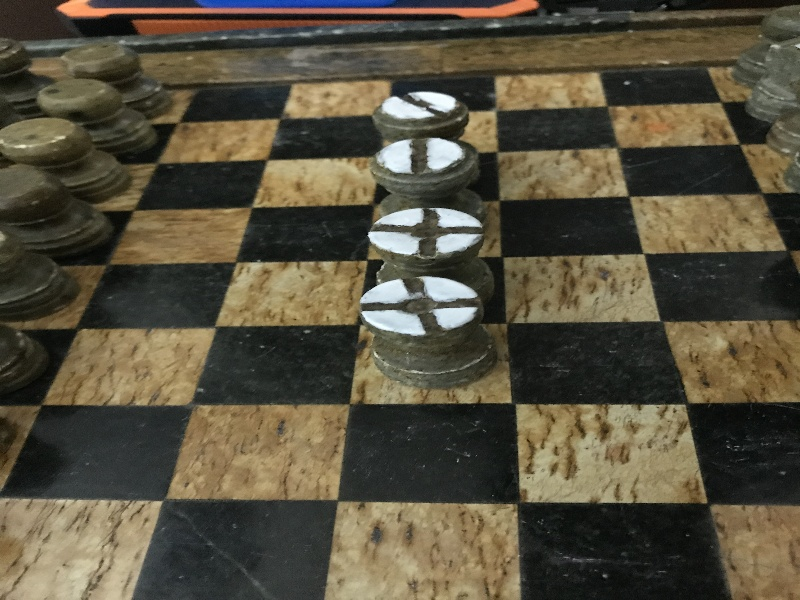WhiteBishop: (359, 276, 495, 386), (367, 207, 493, 291)
WhiteRook: (367, 139, 484, 221), (373, 90, 471, 161)
